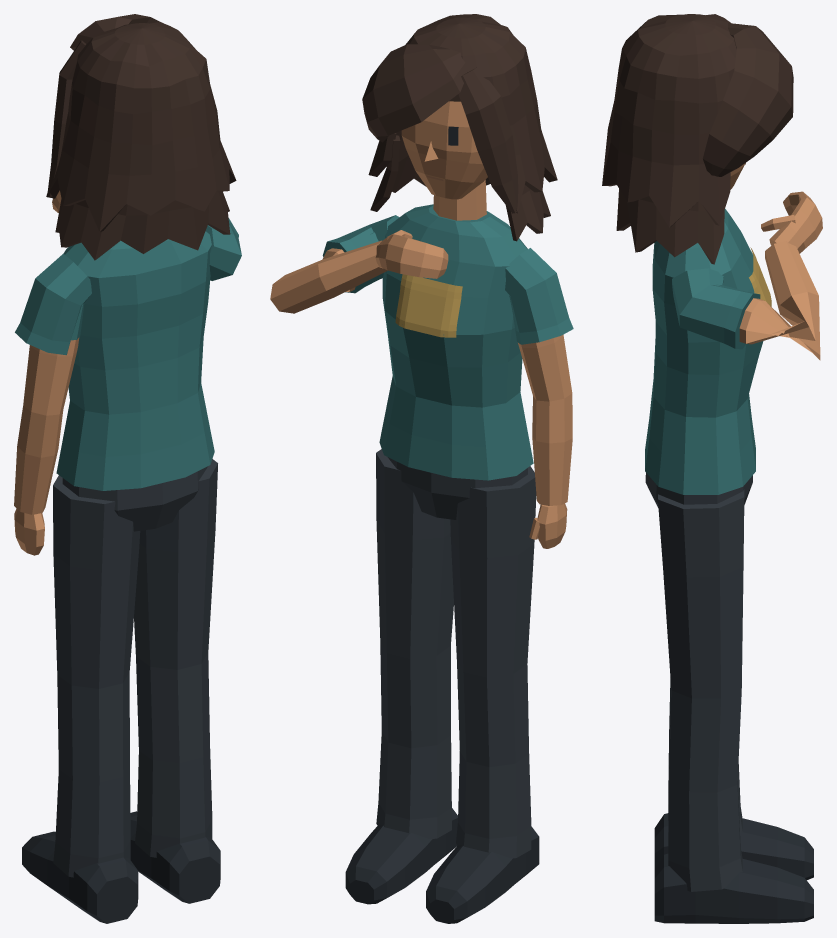
The model's file is lwf_attendee_female_drinking_soft_v2.glb.
3 renders of one model, left to right at view 1: azimuth 30°, elevation 25°; view 2: azimuth 150°, elevation 25°; view 3: azimuth 270°, elevation 25°, orthographic. The views are drawn at different scales.
Parts seen in each view (by area): view 1: Attendee_female_drinking_soft_v6; view 2: Attendee_female_drinking_soft_v6; view 3: Attendee_female_drinking_soft_v6.
Part boxes in pixels (x1,y1,x2,y2): Attendee_female_drinking_soft_v6: [14, 14, 241, 923]; Attendee_female_drinking_soft_v6: [270, 14, 573, 923]; Attendee_female_drinking_soft_v6: [602, 14, 822, 923].
Bounding box in the file's own units: 0.5046 × 1.7 × 0.388.
1 material, 1 textured.
